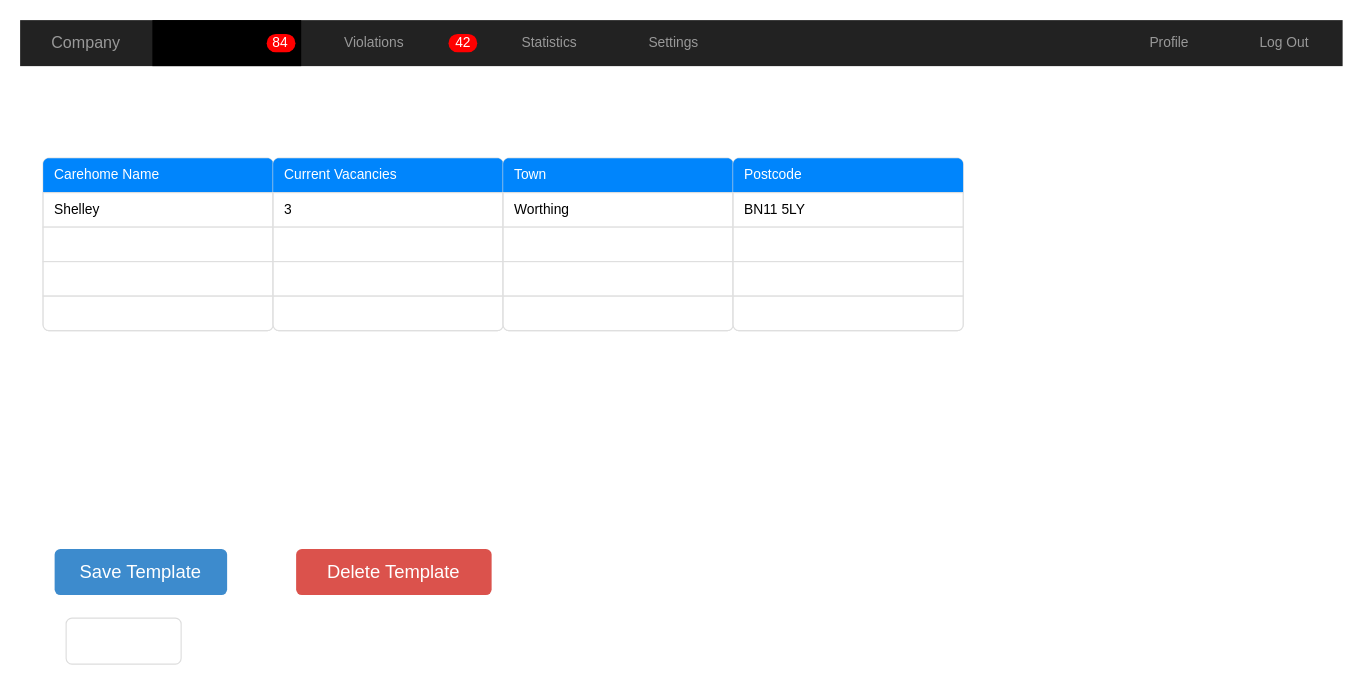
Some shapes in this 1362 by 684 pixel diagram are drawn without their labels. The shapes that lost their labels are listed below. From the top down, each one's centre as x and y in pixels, then its label:
pixel 226 43: People
pixel 123 640: Cancel
